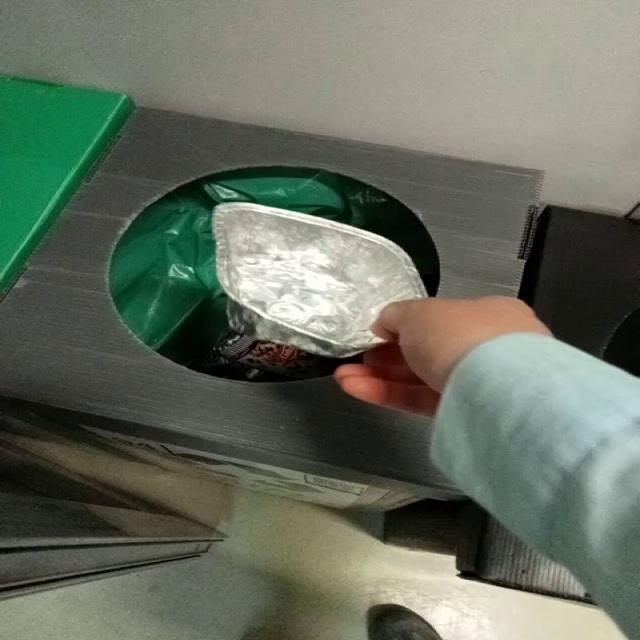Bin: (3, 109, 540, 498)
Metal: (212, 204, 428, 358)
